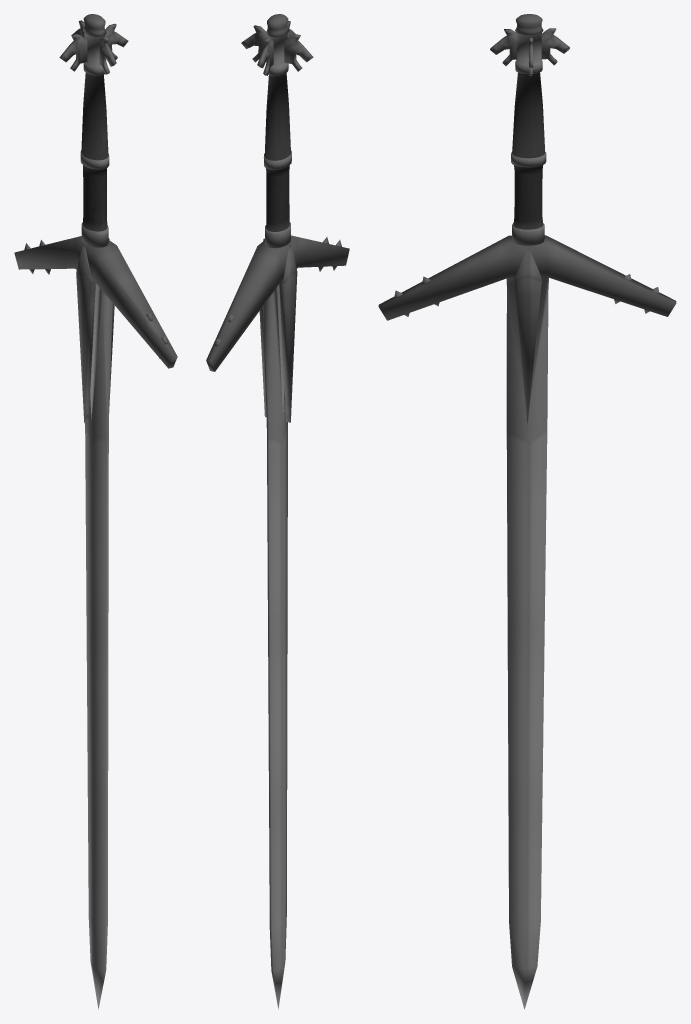
Rendered from Aerondight.fbx.
3 views of the same model, side by side, from view 1: azimuth 30°, elevation 25°; view 2: azimuth 150°, elevation 25°; view 3: azimuth 270°, elevation 25° (orthographic).
Parts seen in each view (by area): view 1: aerondight.015; view 2: aerondight.015; view 3: aerondight.015.
Part boxes in pixels (x1=…): aerondight.015: x1=14, y1=14, x2=177, y2=1009; aerondight.015: x1=206, y1=14, x2=349, y2=1009; aerondight.015: x1=378, y1=14, x2=676, y2=1009.
Size of the model in its own units: 0.0569 by 0.7789 by 0.2117.
